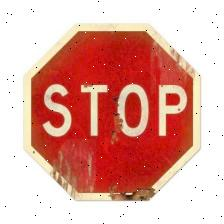Stop: (21, 23, 201, 201)
